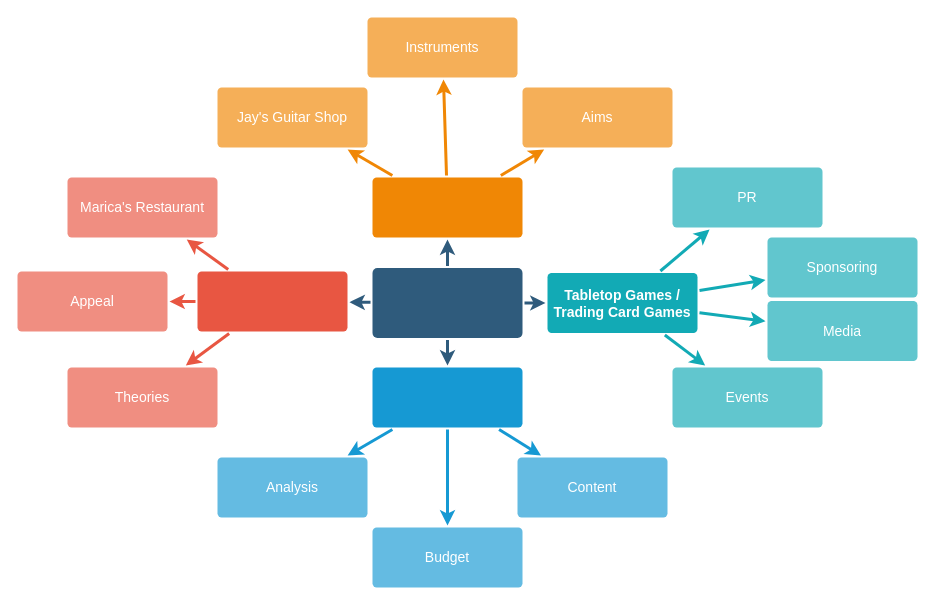
This 934x604 diagram has some shape labels left out. Each missing label, with the centre of its shape:
Food / Cooking: (x=272, y=301)
Music / Guitar: (x=447, y=207)
Noah: (x=447, y=303)
Outdoors / Camping: (x=447, y=397)
